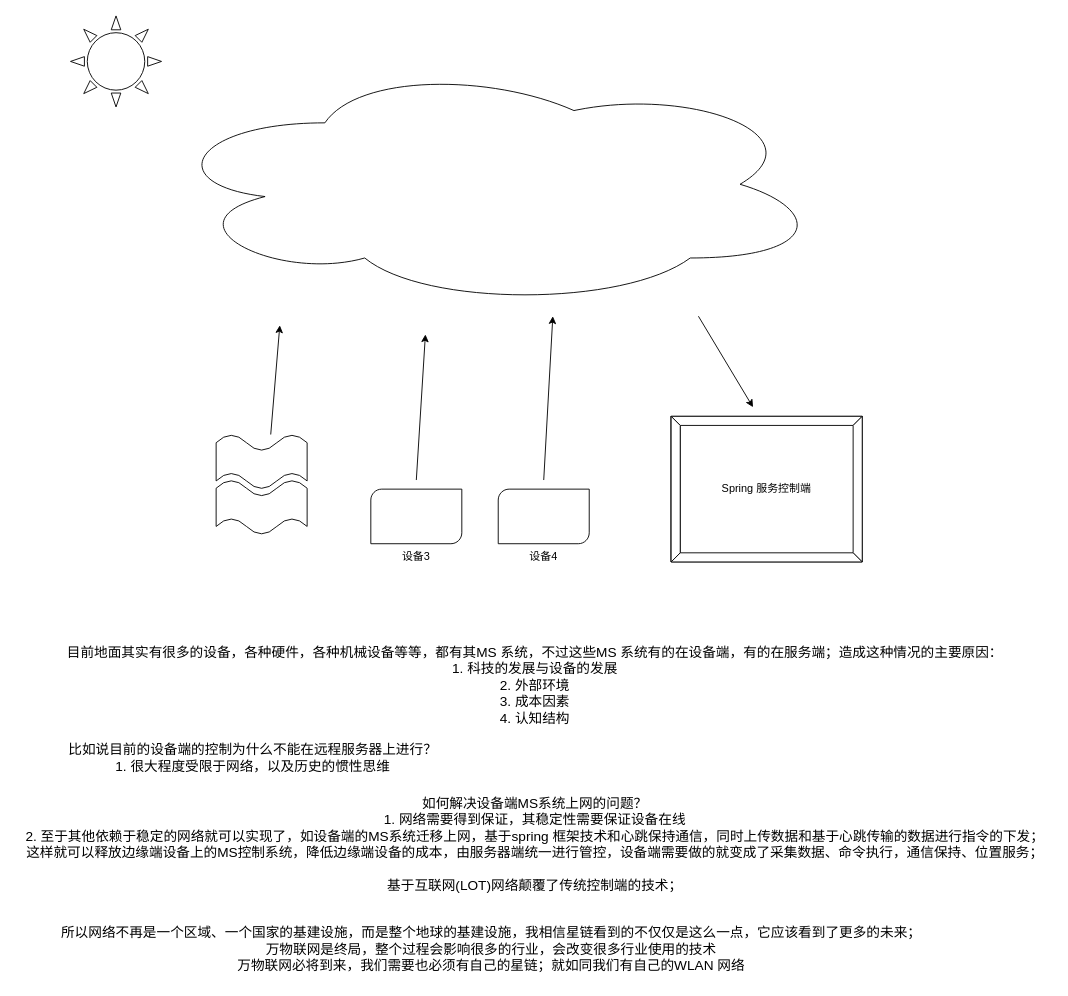
This 1068x996 diagram has some shape labels left out. The shapes that lost their labels are listed below. From the top down, each one's box as (x1, y1, x2, y2) in pixels, then its label:
(158, 61, 823, 307): Star Link
(215, 479, 307, 535): 设备1
